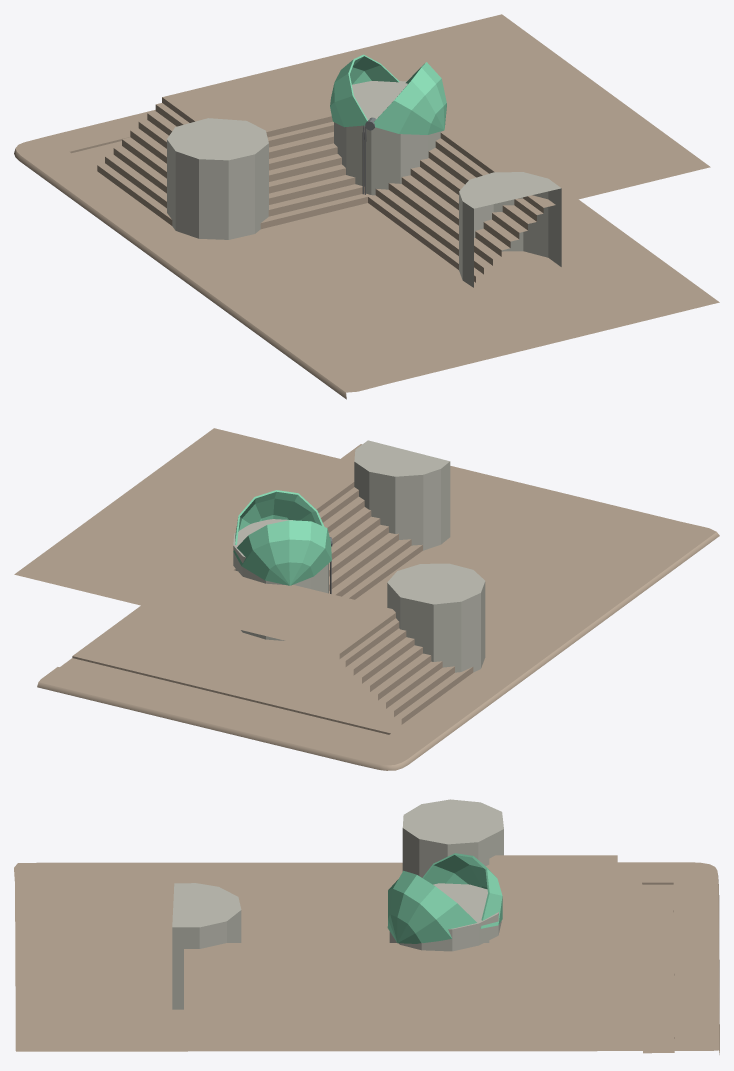
The model's file is stairs.fbx.
3 views of the same model, one above another, from view 1: azimuth 30°, elevation 25°; view 2: azimuth 150°, elevation 25°; view 3: azimuth 270°, elevation 25° (orthographic). The views are drawn at different scales.
Visible parts, largest first — view 1: Cube.004, Cube.016, Cylinder.001, Cylinder.002, Cylinder, Sphere.001, Sphere; view 2: Cube.004, Cube.016, Cylinder.001, Cylinder.002, Sphere, Sphere.001, Cylinder; view 3: Cube.004, Cube.016, Cylinder.001, Cylinder.002, Sphere.001, Cylinder, Sphere.
Boxes of the visible parts, x1,y1,x2,y2 form: Cube.004: [14, 110, 719, 399]; Cube.016: [97, 14, 710, 282]; Cylinder.001: [167, 118, 268, 239]; Cylinder.002: [459, 172, 561, 287]; Cylinder: [334, 81, 443, 195]; Sphere.001: [374, 62, 446, 134]; Sphere: [330, 54, 399, 127]; Cube.004: [37, 444, 719, 770]; Cube.016: [14, 428, 473, 724]; Cylinder.001: [387, 563, 485, 672]; Cylinder.002: [354, 440, 450, 550]; Sphere: [233, 520, 331, 585]; Sphere.001: [235, 490, 324, 544]; Cylinder: [233, 519, 328, 640]; Cube.004: [14, 862, 719, 1054]; Cube.016: [184, 855, 617, 1027]; Cylinder.001: [402, 799, 503, 877]; Cylinder.002: [172, 883, 241, 1009]; Sphere.001: [387, 870, 476, 943]; Cylinder: [389, 883, 501, 951]; Sphere: [422, 853, 502, 928].
Bounding box in the file's own units: 1320 × 375 × 1739.
